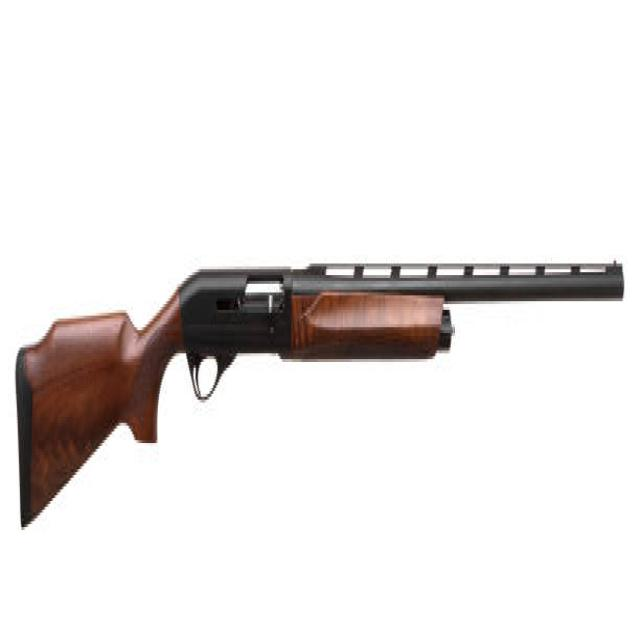rifle: (17, 246, 630, 539)
